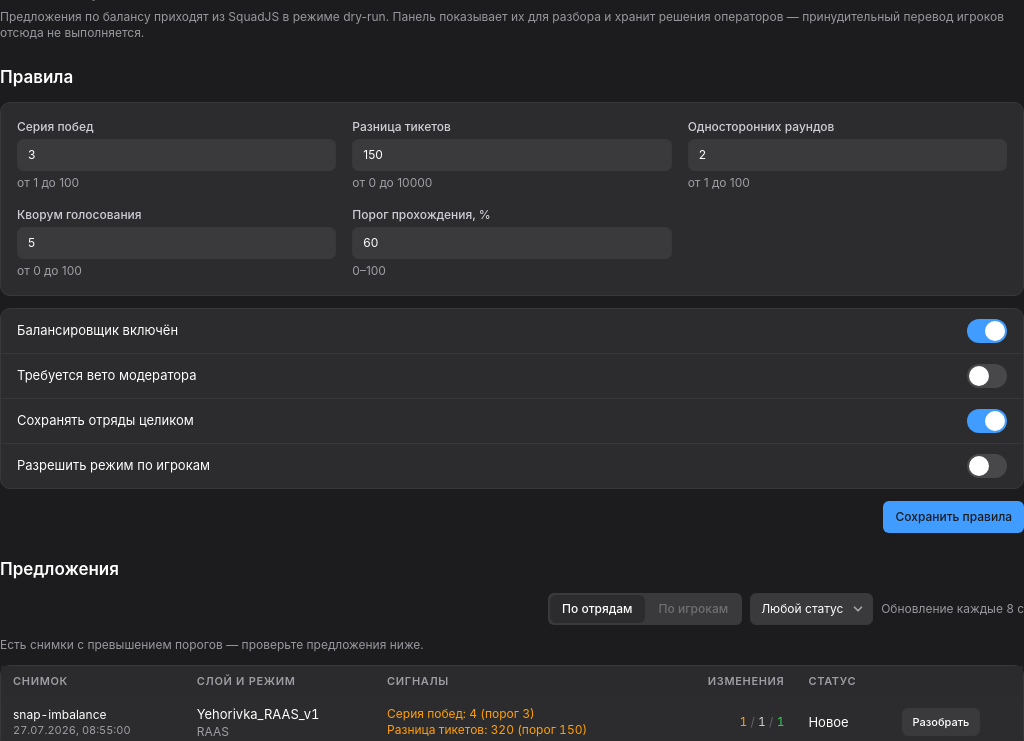
Scenario: BalancerBrowser decisions › posts an acknowledgement for the opened snapshot and reports the new status
Expected: the text "snap-imbalance" is shown, [13, 707, 106, 722]
Click the button "Разобрать".
click(941, 722)  # box [902, 708, 980, 736]
(page scrolled)
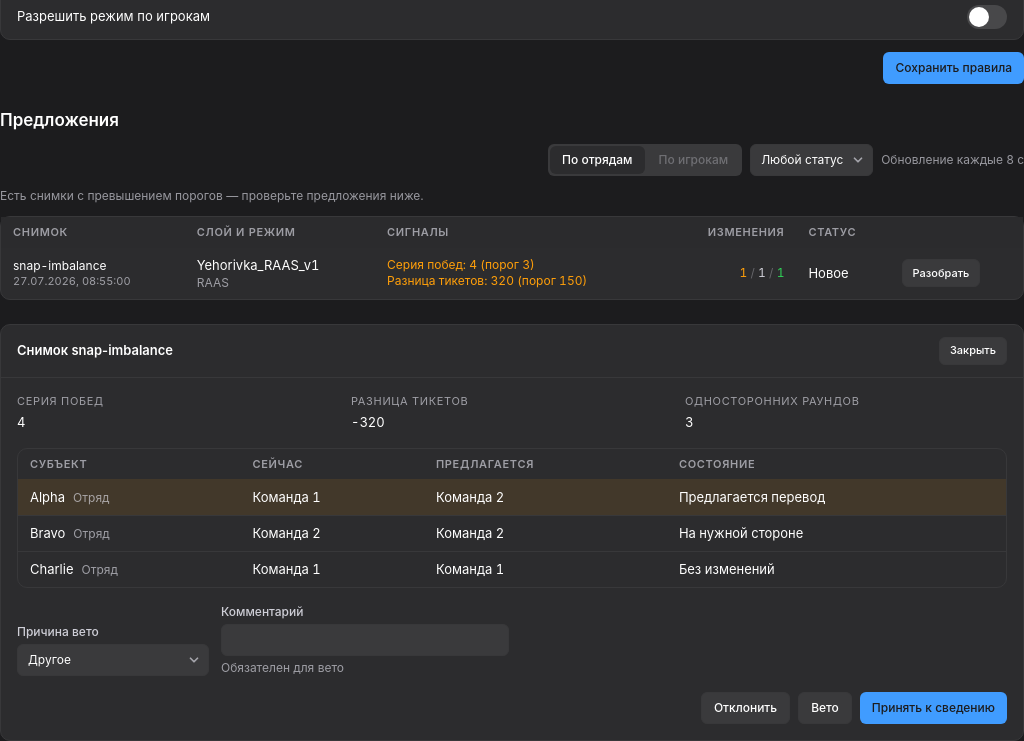
Expected: the text "Alpha" is shown, [30, 489, 65, 505]
Click the button "Принять к сведению".
click(933, 708)  # box [860, 692, 1007, 724]
(page scrolled)
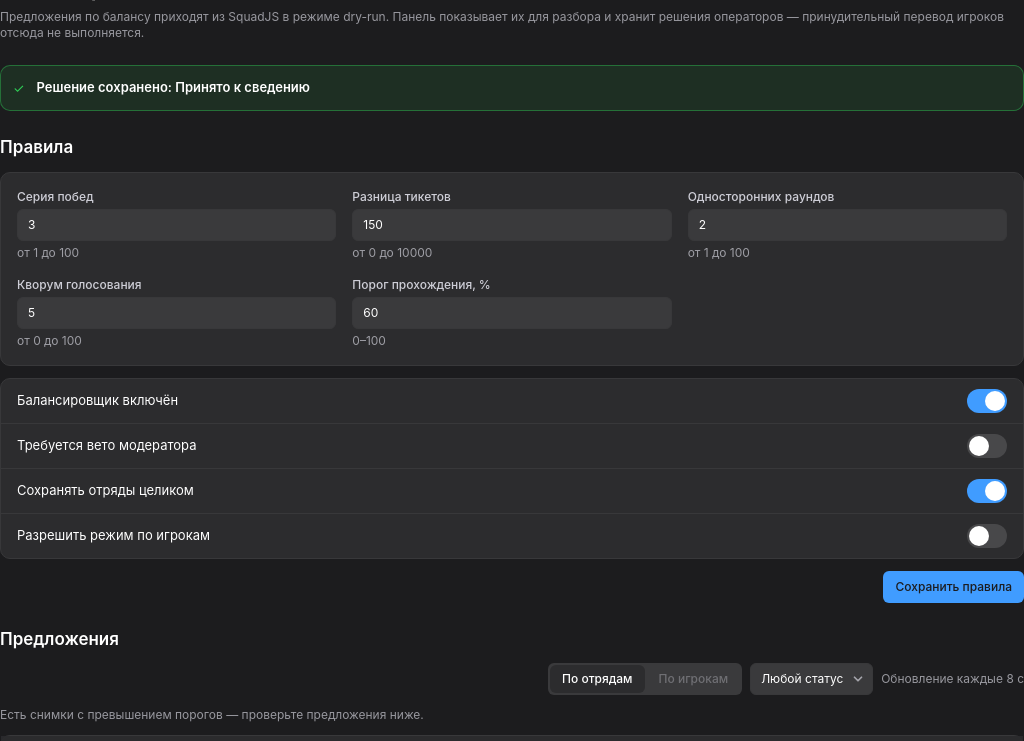
Expected: the text "Решение сохранено: Принято к сведению" is shown, [36, 79, 310, 95]
